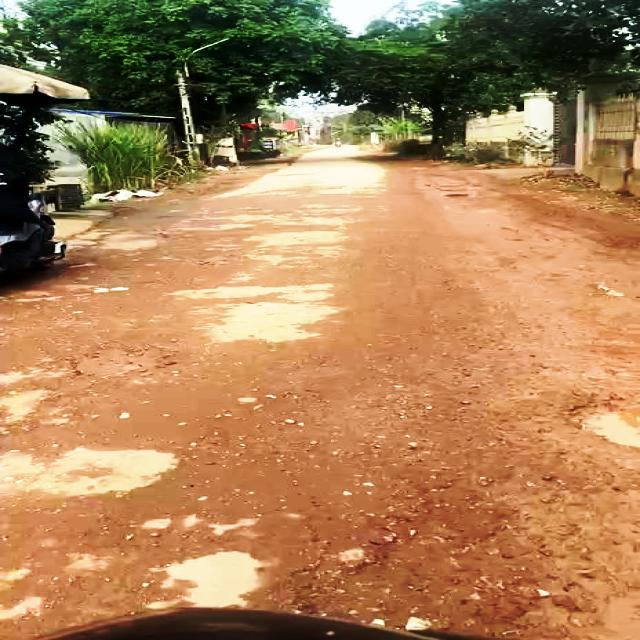pothole: (557, 393, 640, 452)
